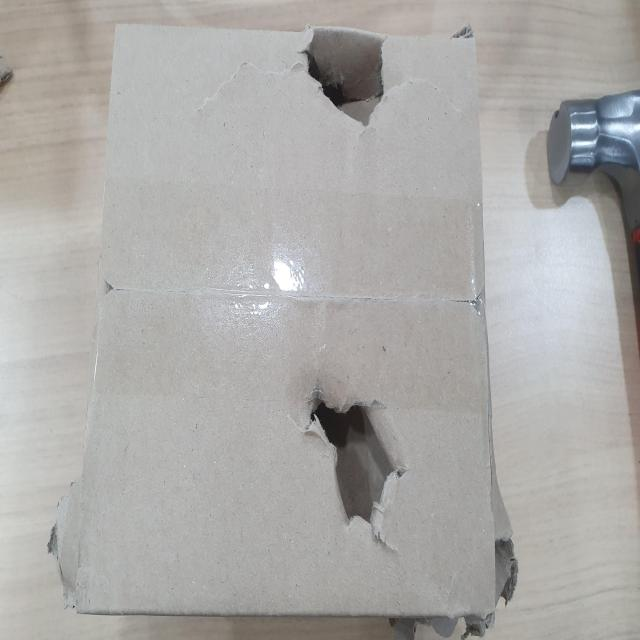damaged: (58, 503, 148, 640), (284, 530, 342, 640)
